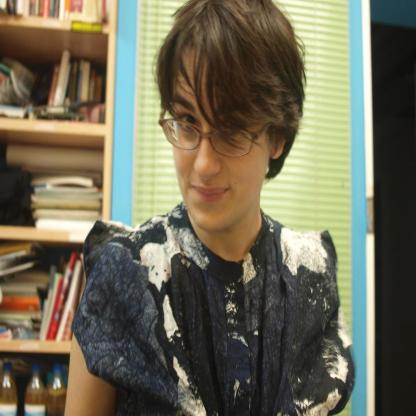book: (0, 242, 93, 344), (4, 144, 103, 230), (0, 48, 106, 124), (0, 0, 108, 23)
